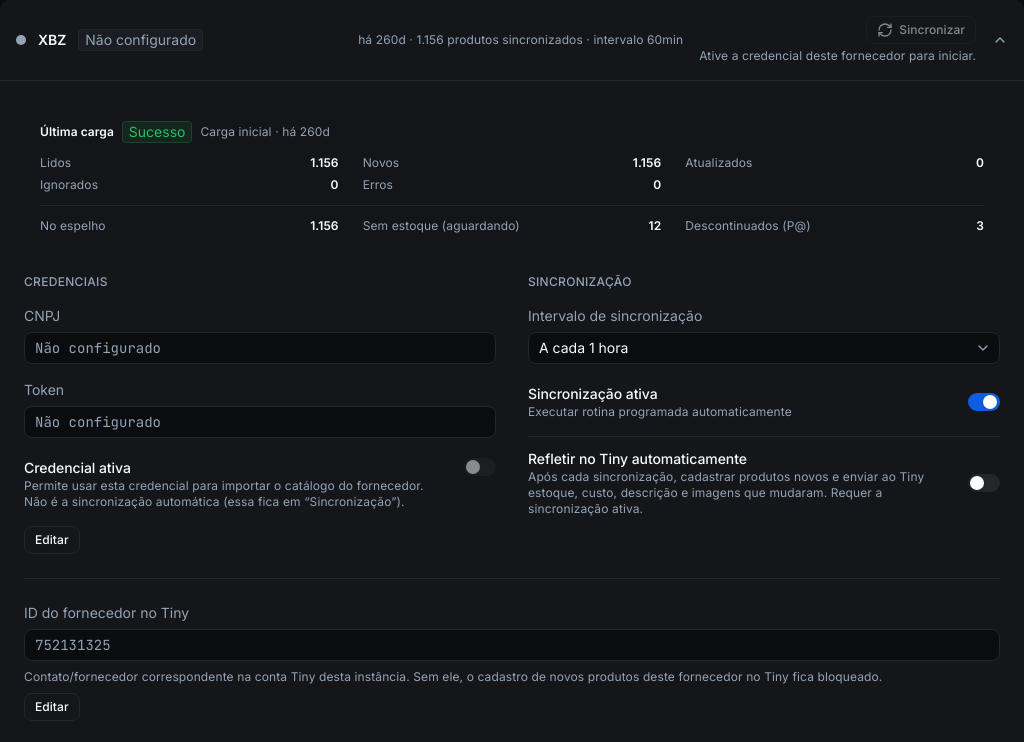
Scenario: FornecedorAcordeao › credencial nova: o switch 'Credencial ativa' já vem ligado ao editar
Step 1. Click the button "Editar" below "Credencial ativa" → (52, 540), box top-left (24, 526), bottom-right (80, 554)
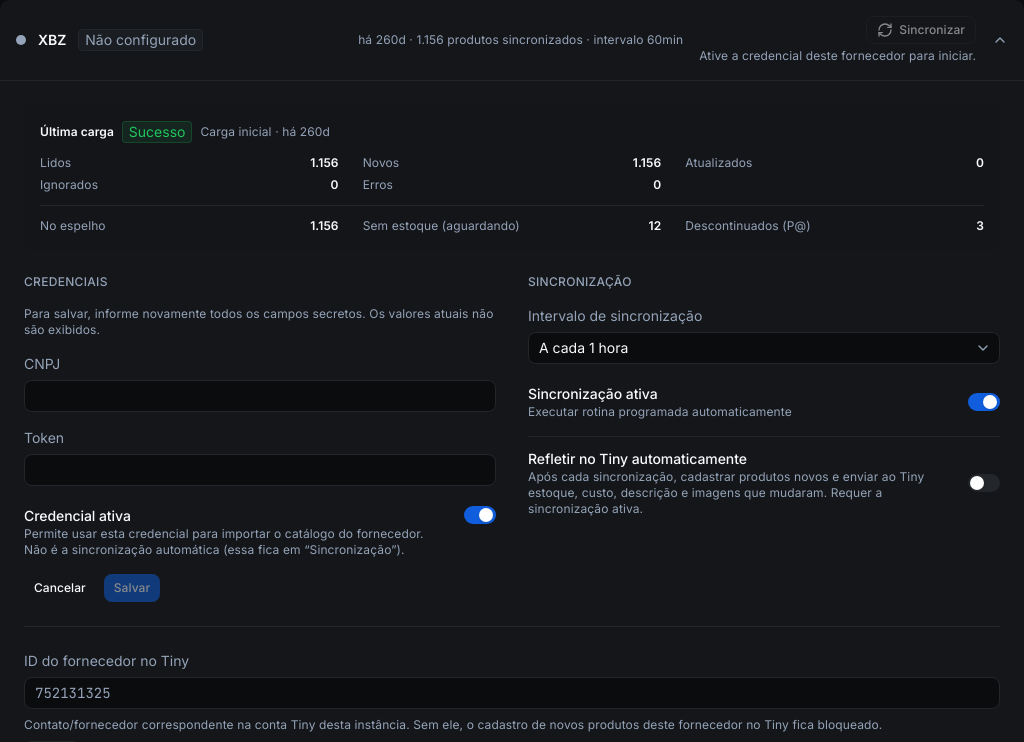
Now the switch named "Credencial ativa" is checked, box top-left (464, 506), bottom-right (496, 524)
